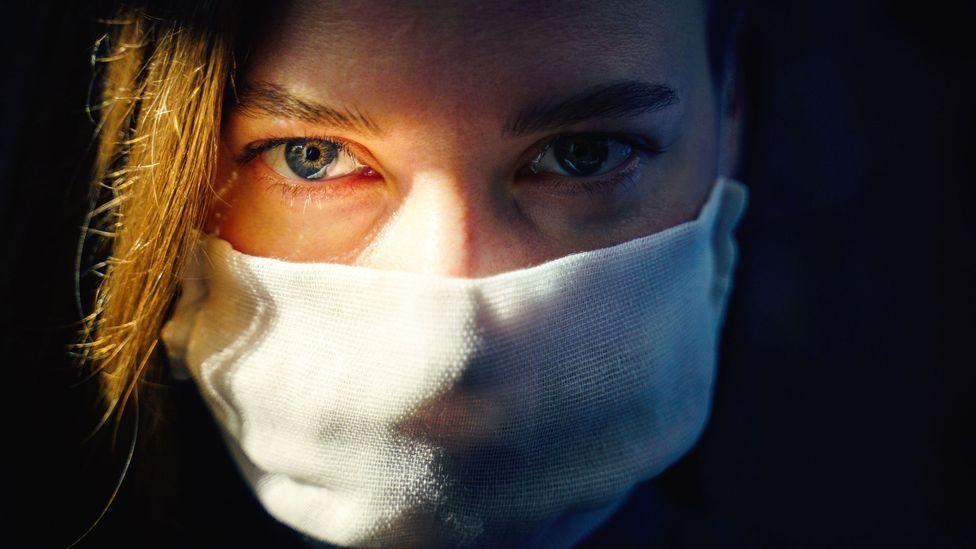mask: (157, 193, 746, 549)
